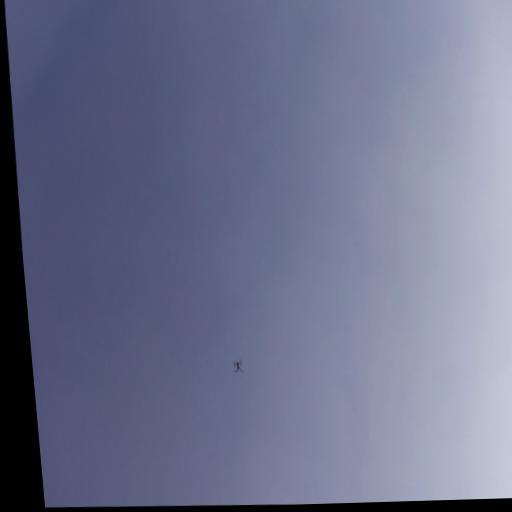drones: (231, 358, 244, 376)
